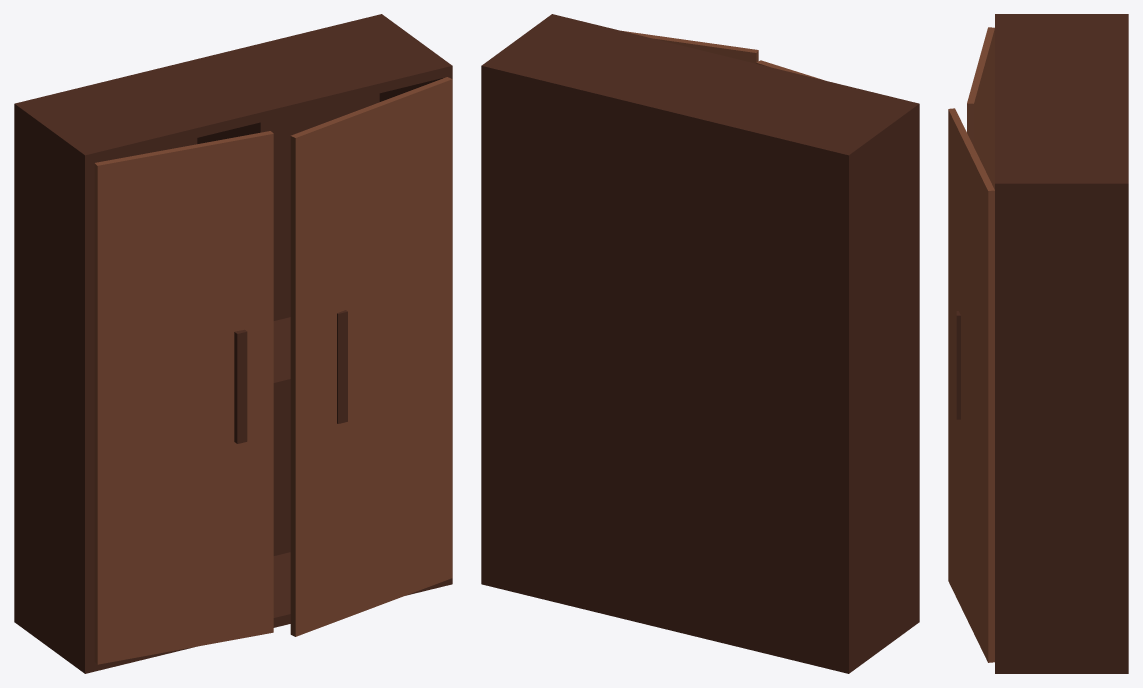
Rendered from Guarda_roupa.fbx.
3 views of the same model, side by side, from view 1: azimuth 30°, elevation 25°; view 2: azimuth 150°, elevation 25°; view 3: azimuth 270°, elevation 25° (orthographic). The views are drawn at different scales.
Parts seen in each view (by area): view 1: Armario; view 2: Armario; view 3: Armario.
Part boxes in pixels (<box>): Armario: <box>14,14,452,673</box>; Armario: <box>481,14,919,673</box>; Armario: <box>948,14,1128,673</box>.
Bounding box in the file's own units: 600 × 809 × 270.
